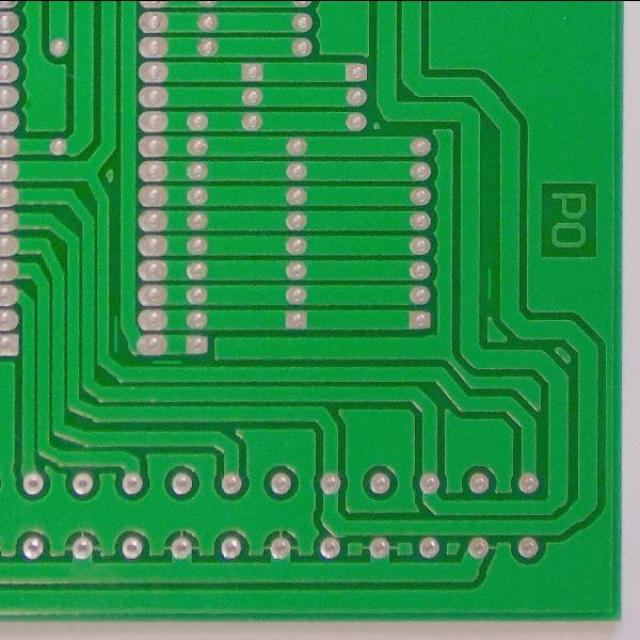Spurious_Cooper: (111, 312, 122, 355), (484, 263, 496, 302), (149, 356, 186, 366)
